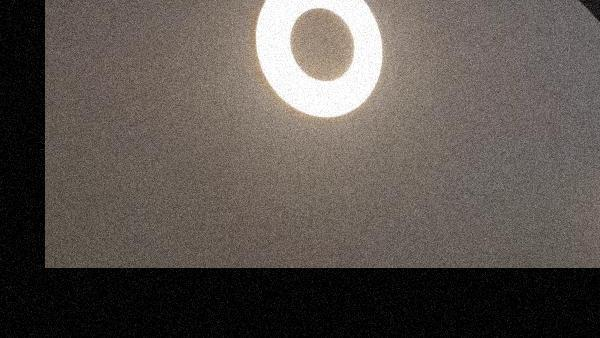light_on: (241, 0, 391, 127)
